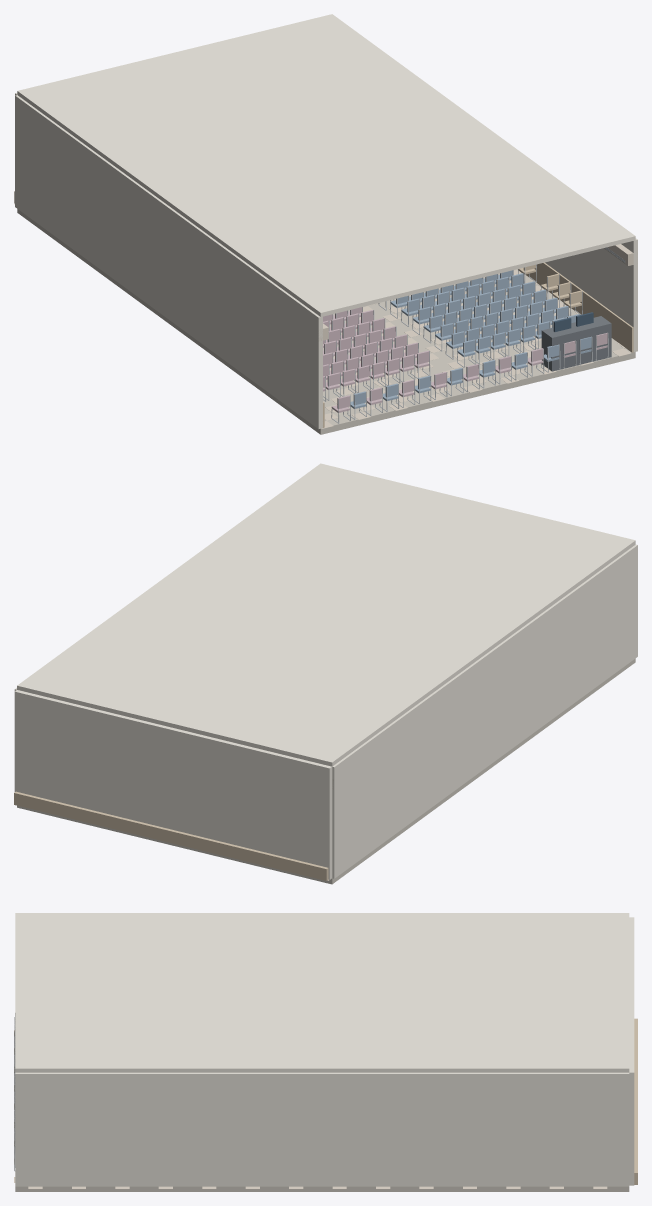
The model's file is Hall_Model.glb.
The picture shows the model from 3 angles, top to bottom: view 1: azimuth 30°, elevation 25°; view 2: azimuth 150°, elevation 25°; view 3: azimuth 270°, elevation 25°; orthographic projection.
Parts seen in each view (by area): view 1: ceiling_wall, walls_wall, floor_floor, seats_blue, seats_pink, seats_metal, floor_curtain, equipment_black, aux_metal, aux_pink, walls_wood, aux_blue (+1 smaller); view 2: ceiling_wall, walls_wall, stage_wood, floor_floor; view 3: ceiling_wall, walls_wall, floor_floor, floor_curtain, stage_wood.
Part boxes in pixels (<box>): ceiling_wall: <box>17,14,635,316</box>; walls_wall: <box>15,93,637,429</box>; floor_floor: <box>17,209,635,434</box>; seats_blue: <box>390,270,579,356</box>; seats_pink: <box>323,307,429,391</box>; seats_metal: <box>323,270,580,401</box>; floor_curtain: <box>14,203,630,428</box>; equipment_black: <box>541,316,611,371</box>; aux_metal: <box>331,264,608,423</box>; aux_pink: <box>331,333,607,412</box>; walls_wood: <box>323,262,633,427</box>; aux_blue: <box>350,336,591,408</box>; ceiling_wall: <box>17,463,635,766</box>; walls_wall: <box>14,544,637,879</box>; stage_wood: <box>14,791,328,880</box>; floor_floor: <box>17,658,635,884</box>; ceiling_wall: <box>15,913,629,1072</box>; walls_wall: <box>15,917,634,1186</box>; floor_floor: <box>15,1186,629,1191</box>; floor_curtain: <box>14,1030,607,1189</box>; stage_wood: <box>634,1018,637,1184</box>.
Size of the model in its own units: 13.09 by 4.7 by 21.55.
